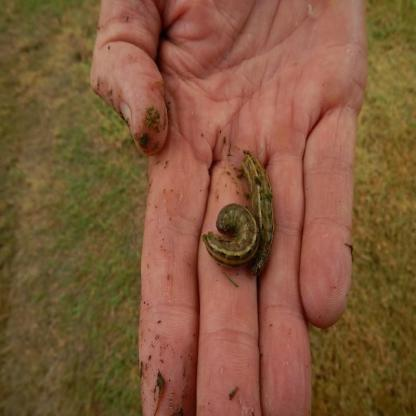armyworm: (240, 145, 277, 280), (202, 201, 255, 264)
